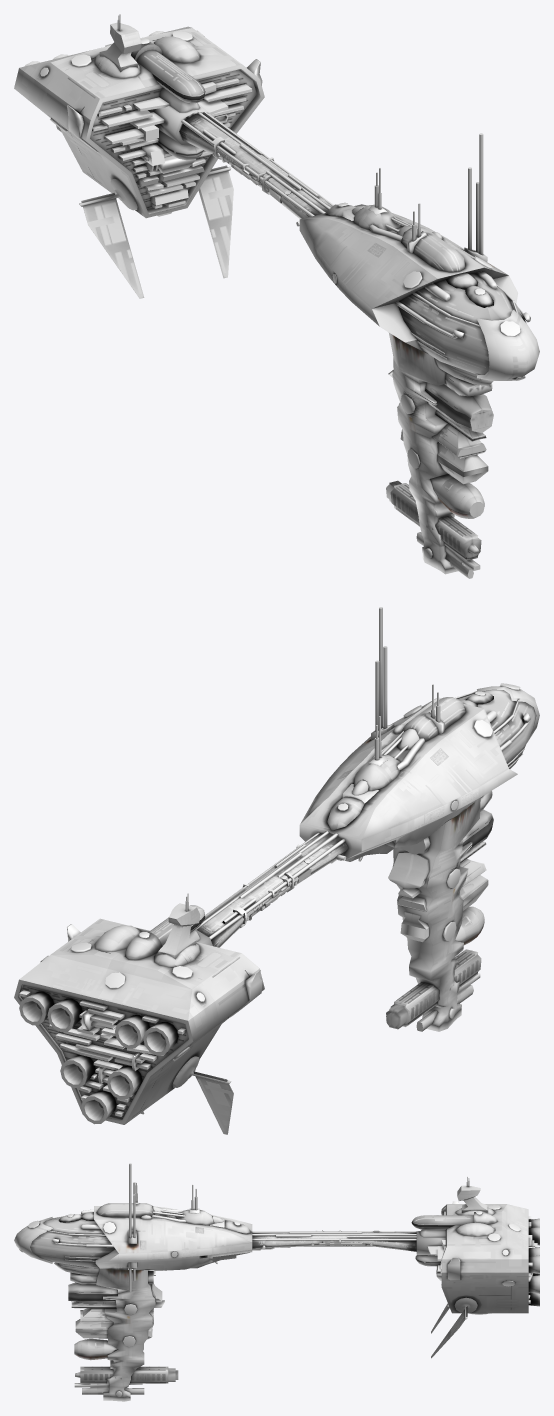
File: medfrigate.obj
The picture shows the model from 3 angles, top to bottom: view 1: azimuth 30°, elevation 25°; view 2: azimuth 150°, elevation 25°; view 3: azimuth 270°, elevation 25°; orthographic projection. The views are drawn at different scales.
Visible parts, largest first — view 1: MainHull_Untitled.014, EngineSection_Untitled, Modules_Untitled.007, EngineSection_Details_Untitled.005, MainHull_Details_Untitled.003, Neck_Details_Untitled.009, Neck_Untitled.002, Antennas_Untitled.008, ShieldGenerator_Untitled.015; view 2: MainHull_Untitled.014, EngineSection_Untitled, Modules_Untitled.007, EngineSection_Details_Untitled.005, Neck_Details_Untitled.009, Neck_Untitled.002, MainHull_Details_Untitled.003, Antennas_Untitled.008, ShieldGenerator_Untitled.015, Engine1_Untitled.006, Engine6_Untitled.012, Engine3_Untitled.001 (+4 smaller); view 3: MainHull_Untitled.014, EngineSection_Untitled, Modules_Untitled.007, Neck_Details_Untitled.009, MainHull_Details_Untitled.003, Neck_Untitled.002, EngineSection_Details_Untitled.005, Antennas_Untitled.008, ShieldGenerator_Untitled.015.
Part boxes in pixels (left/top/right/bottom): MainHull_Untitled.014: left=299, top=204, right=539, bottom=574; EngineSection_Untitled: left=14, top=26, right=264, bottom=298; Modules_Untitled.007: left=386, top=370, right=493, bottom=578; EngineSection_Details_Untitled.005: left=40, top=30, right=262, bottom=216; MainHull_Details_Untitled.003: left=332, top=202, right=530, bottom=558; Neck_Details_Untitled.009: left=181, top=112, right=333, bottom=226; Neck_Untitled.002: left=179, top=113, right=332, bottom=219; Antennas_Untitled.008: left=374, top=133, right=483, bottom=255; ShieldGenerator_Untitled.015: left=99, top=14, right=141, bottom=72; MainHull_Untitled.014: left=299, top=686, right=539, bottom=1031; EngineSection_Untitled: left=14, top=905, right=264, bottom=1134; Modules_Untitled.007: left=386, top=791, right=493, bottom=1031; EngineSection_Details_Untitled.005: left=19, top=924, right=262, bottom=1116; Neck_Details_Untitled.009: left=195, top=831, right=346, bottom=939; Neck_Untitled.002: left=197, top=833, right=348, bottom=947; MainHull_Details_Untitled.003: left=330, top=683, right=530, bottom=1018; Antennas_Untitled.008: left=374, top=607, right=440, bottom=760; ShieldGenerator_Untitled.015: left=158, top=893, right=200, bottom=959; Engine1_Untitled.006: left=143, top=1022, right=178, bottom=1055; Engine6_Untitled.012: left=81, top=1090, right=116, bottom=1124; Engine3_Untitled.001: left=47, top=998, right=82, bottom=1032; MainHull_Untitled.014: left=14, top=1203, right=252, bottom=1401; EngineSection_Untitled: left=411, top=1204, right=528, bottom=1358; Modules_Untitled.007: left=68, top=1271, right=178, bottom=1394; Neck_Details_Untitled.009: left=252, top=1230, right=416, bottom=1249; MainHull_Details_Untitled.003: left=19, top=1202, right=274, bottom=1396; Neck_Untitled.002: left=252, top=1232, right=416, bottom=1251; EngineSection_Details_Untitled.005: left=427, top=1201, right=537, bottom=1314; Antennas_Untitled.008: left=129, top=1163, right=197, bottom=1291; ShieldGenerator_Untitled.015: left=457, top=1176, right=487, bottom=1212.
Size of the model in its own units: 77.06 by 159 by 304.
